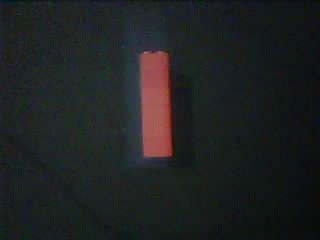lego: (138, 50, 173, 157)
